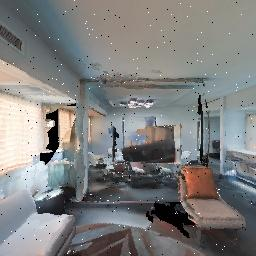sofa: (167, 157, 253, 251)
